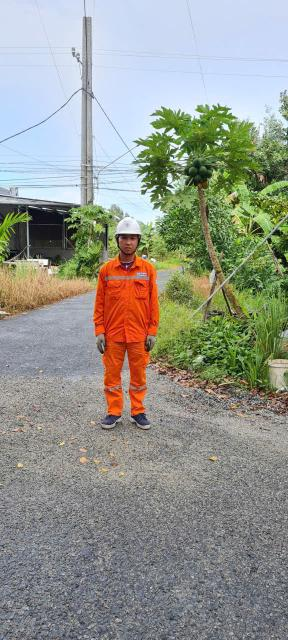gloves: (92, 334, 111, 353), (144, 335, 160, 353)
harness: (98, 410, 128, 429), (129, 411, 156, 432)
helmet: (109, 214, 150, 241)
